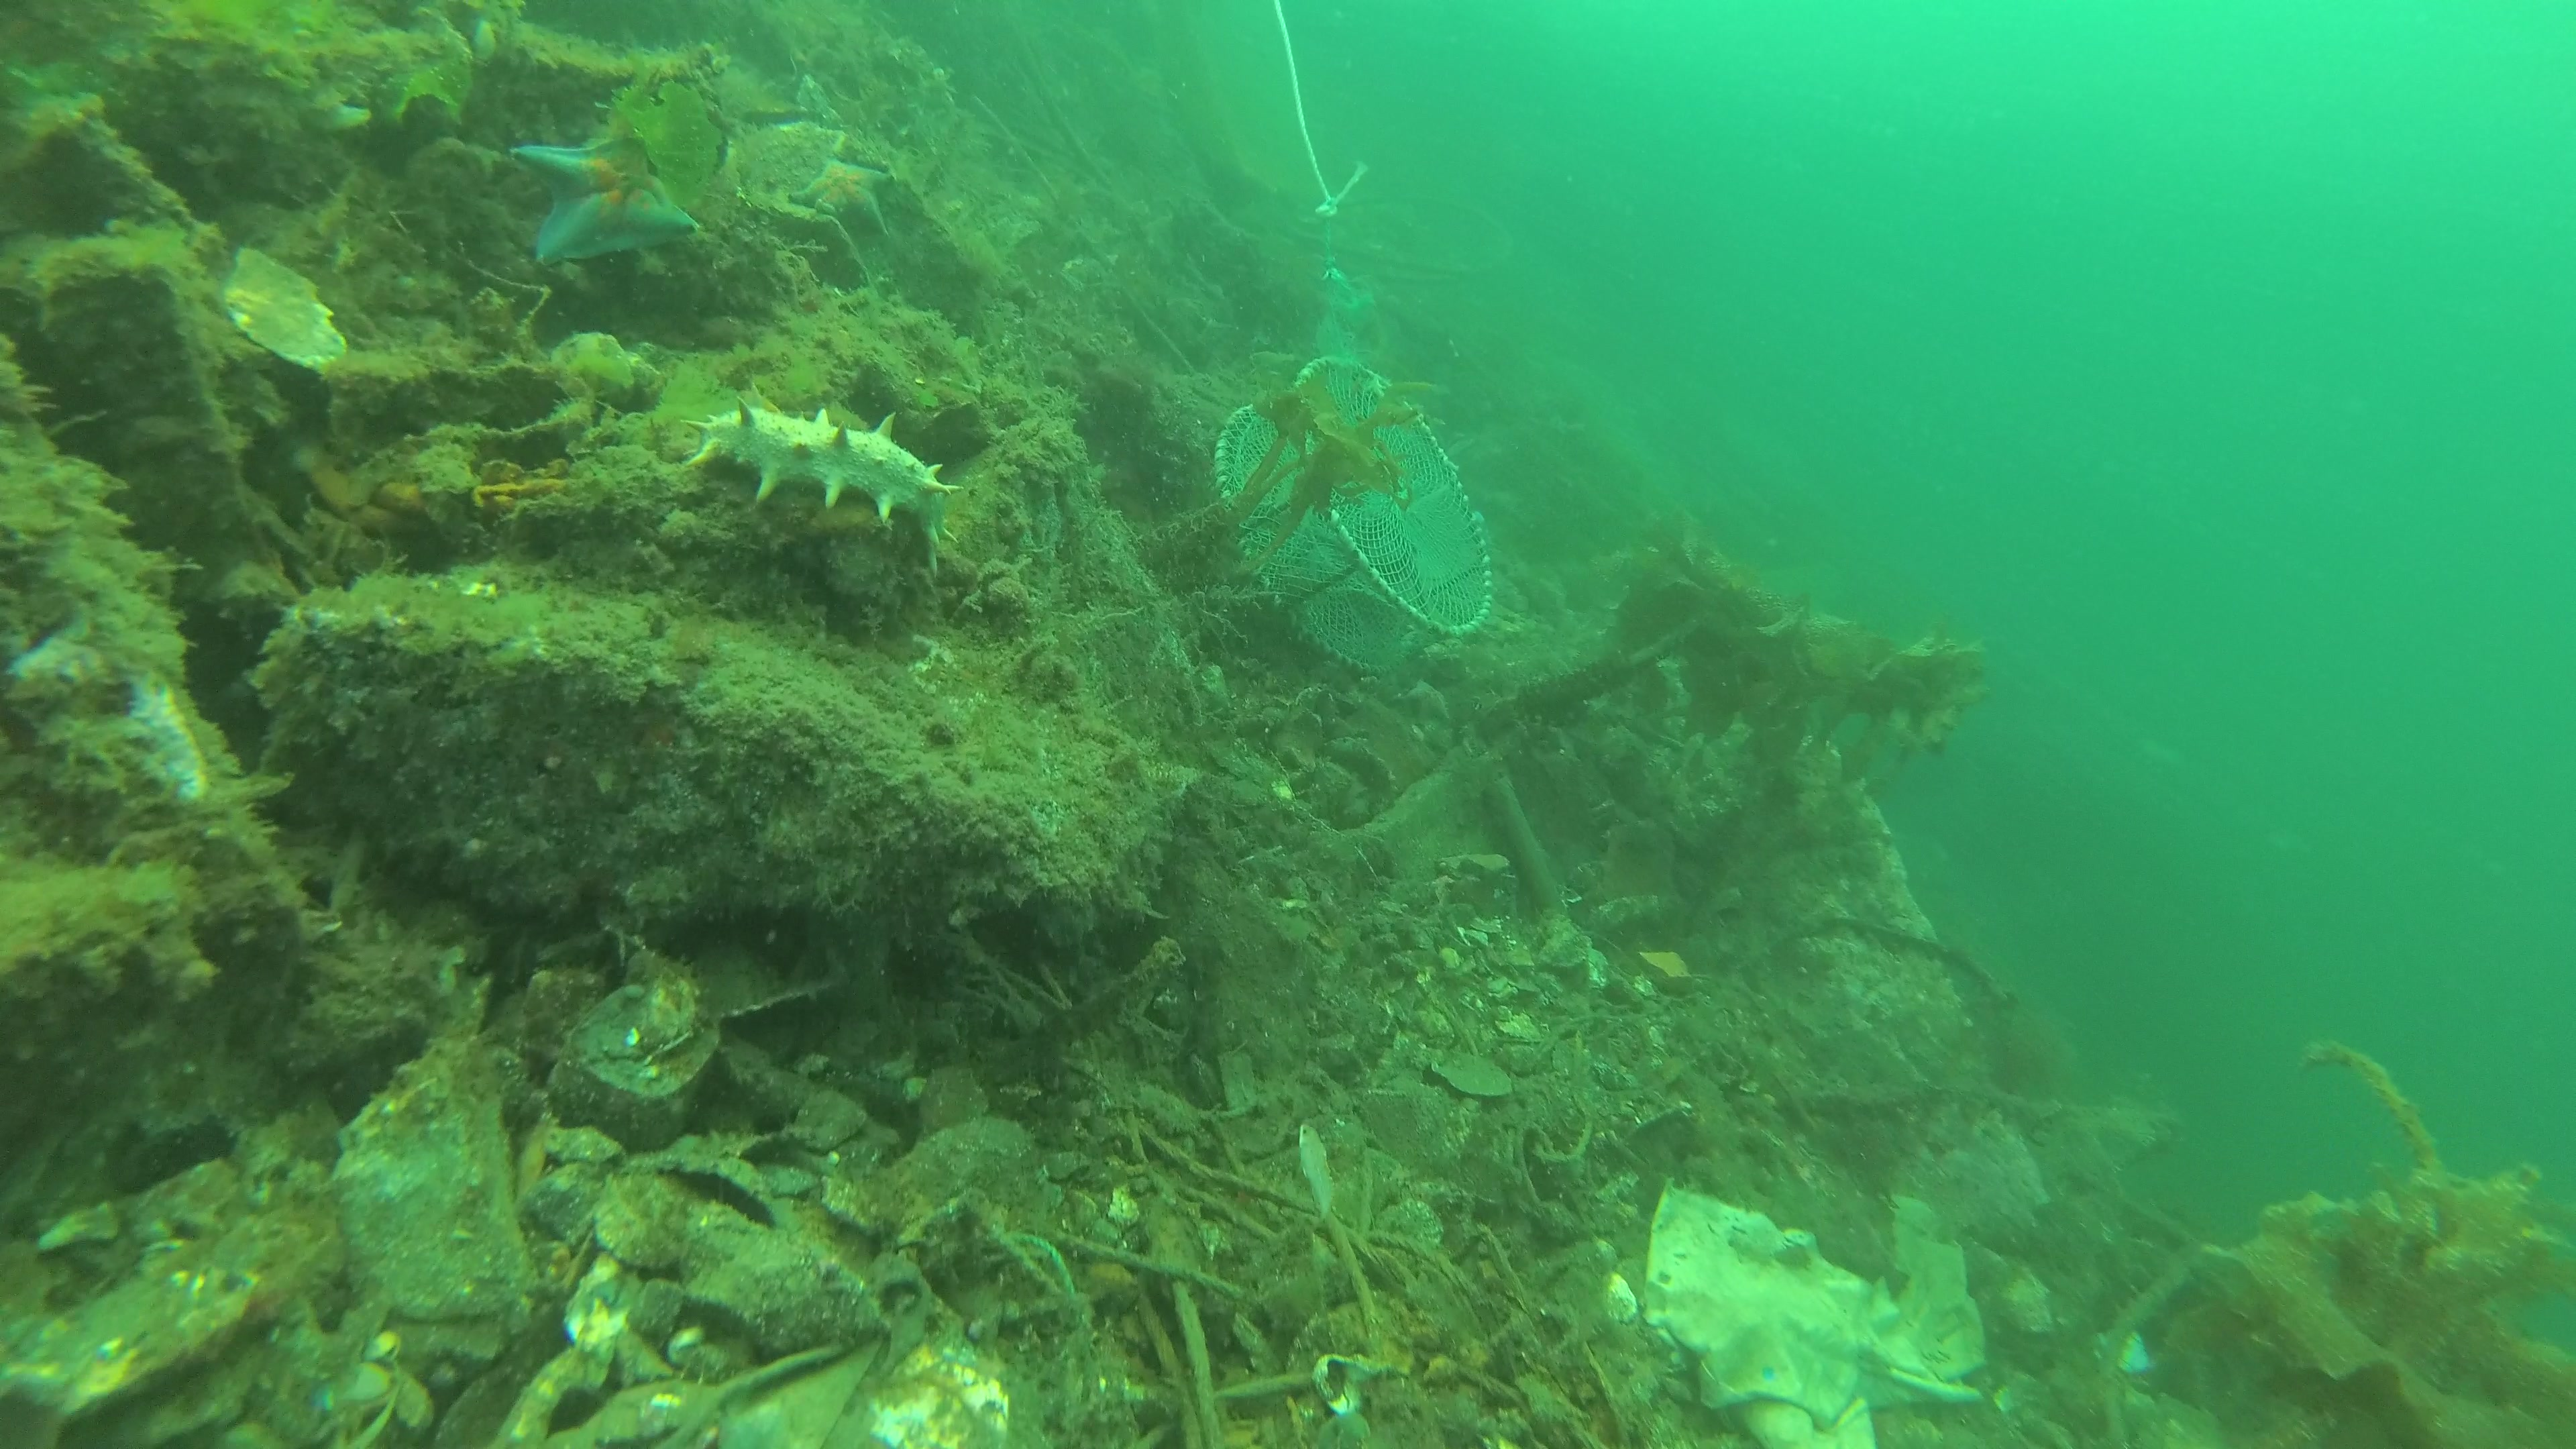holothurian: (678, 400, 962, 533)
starfish: (501, 136, 704, 271), (789, 159, 897, 241)
